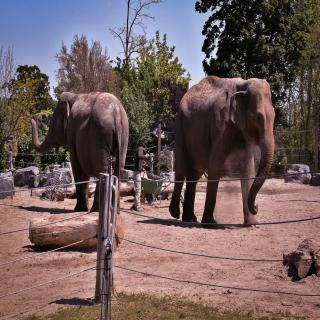Elephant: (170, 73, 277, 235), (29, 82, 134, 213)
